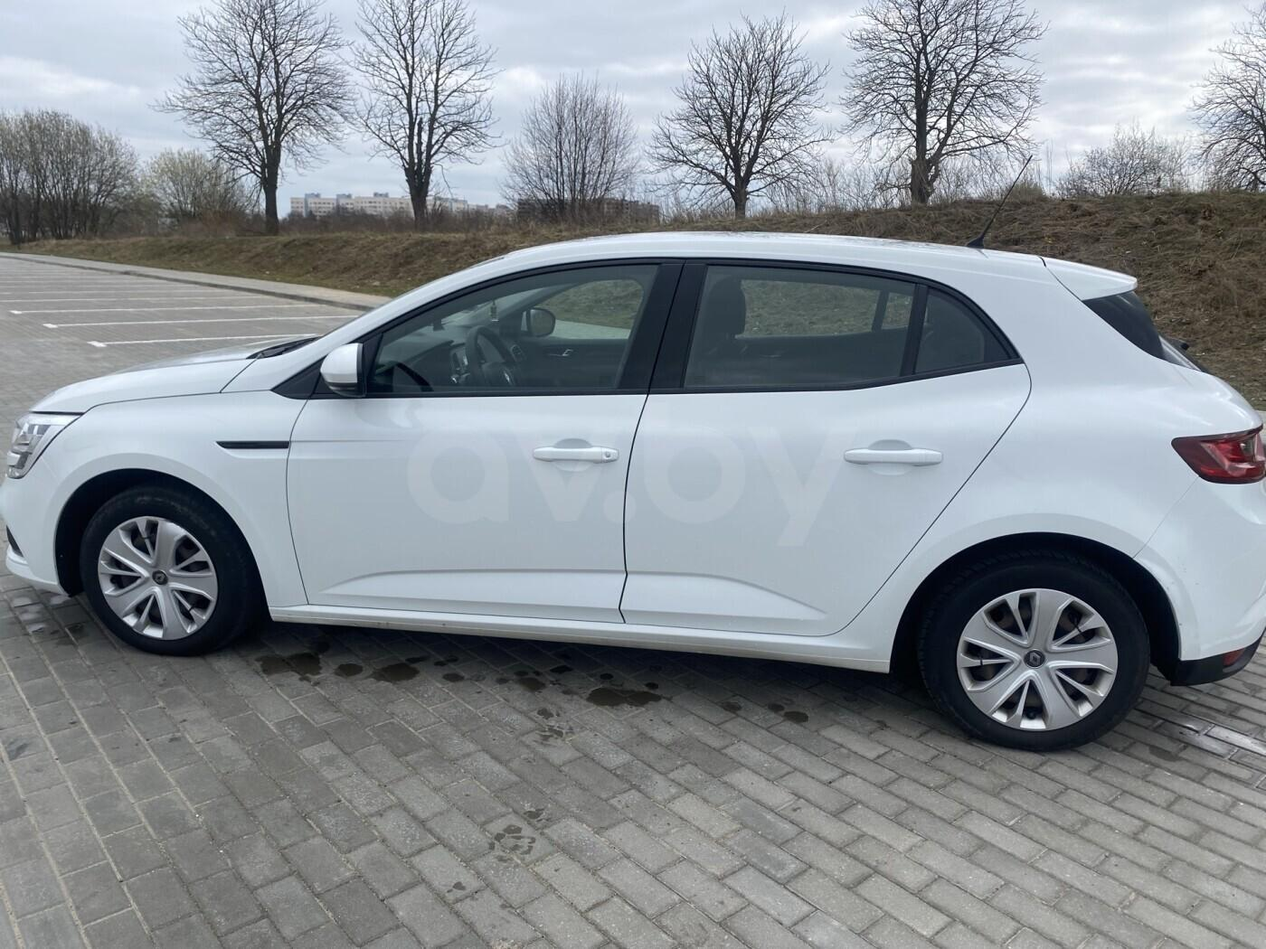Megane_2016-2020: (0, 234, 1266, 739)
